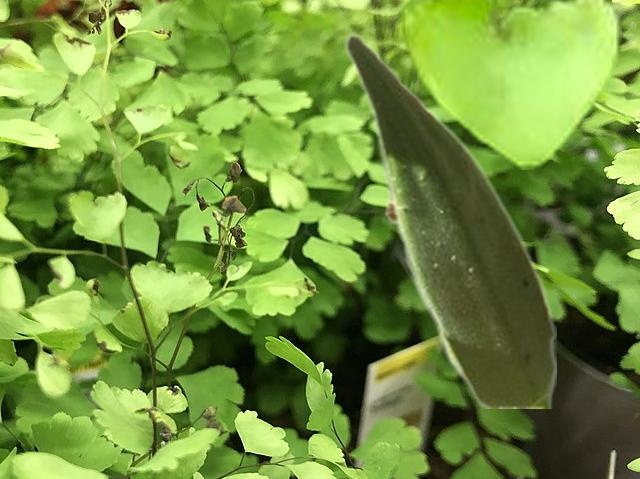okra: (343, 31, 555, 407)
